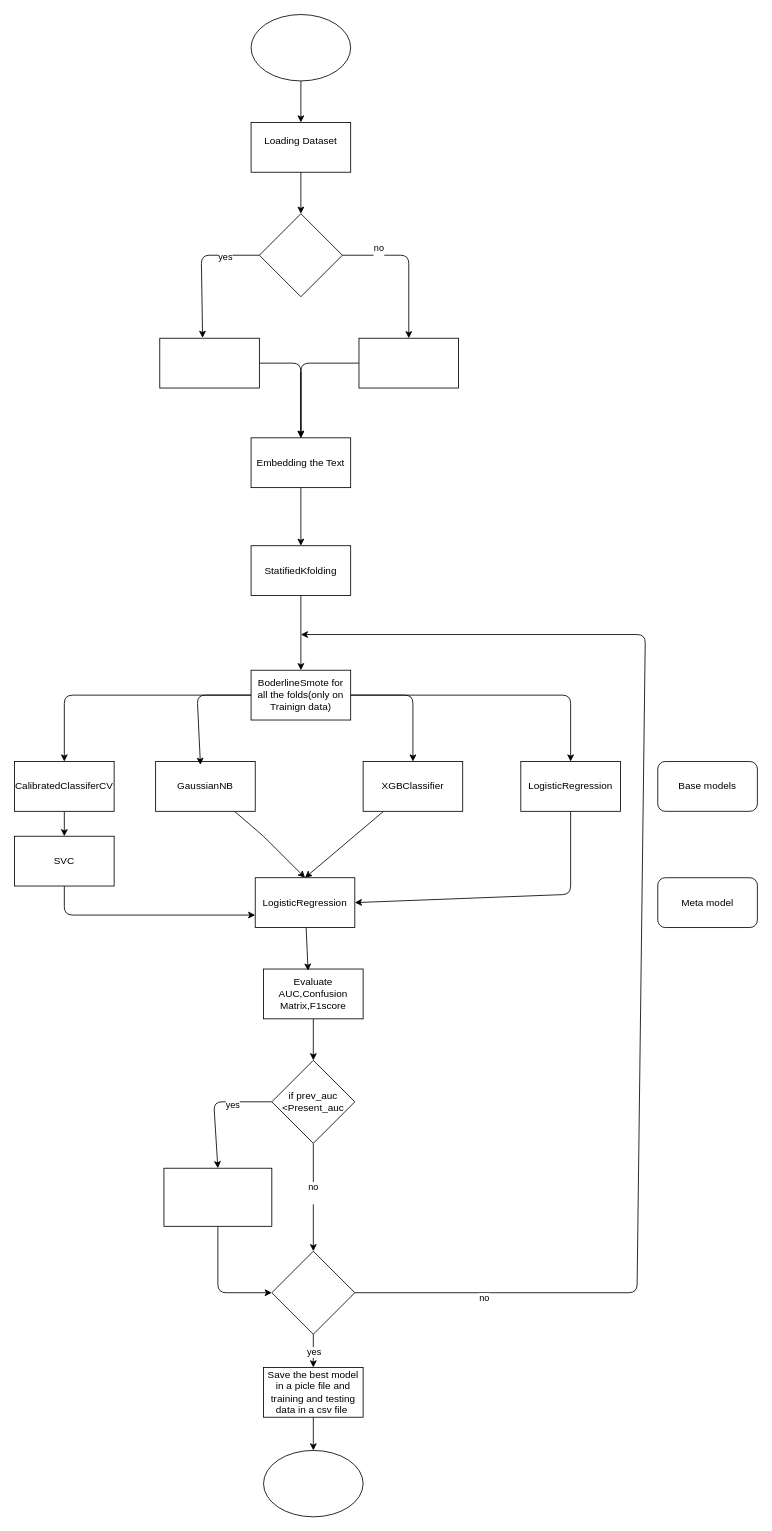
Image size: 772x1531. Some labels were removed from this diagram. The shapes that lost their labels are listed below. From the top down, each one's centre as x and y in pixels, then its label:
[300,47]: Start
[300,255]: if device=="cpu"
[209,362]: embedder_model = "paraphrase-mpnet-base-v2"
[408,362]: embedder_model = "all-Mini-L6-v2"
[217,1196]: Store the model, training data and testing data
[313,1292]: if fold == 5(last fold)
[313,1483]: End
